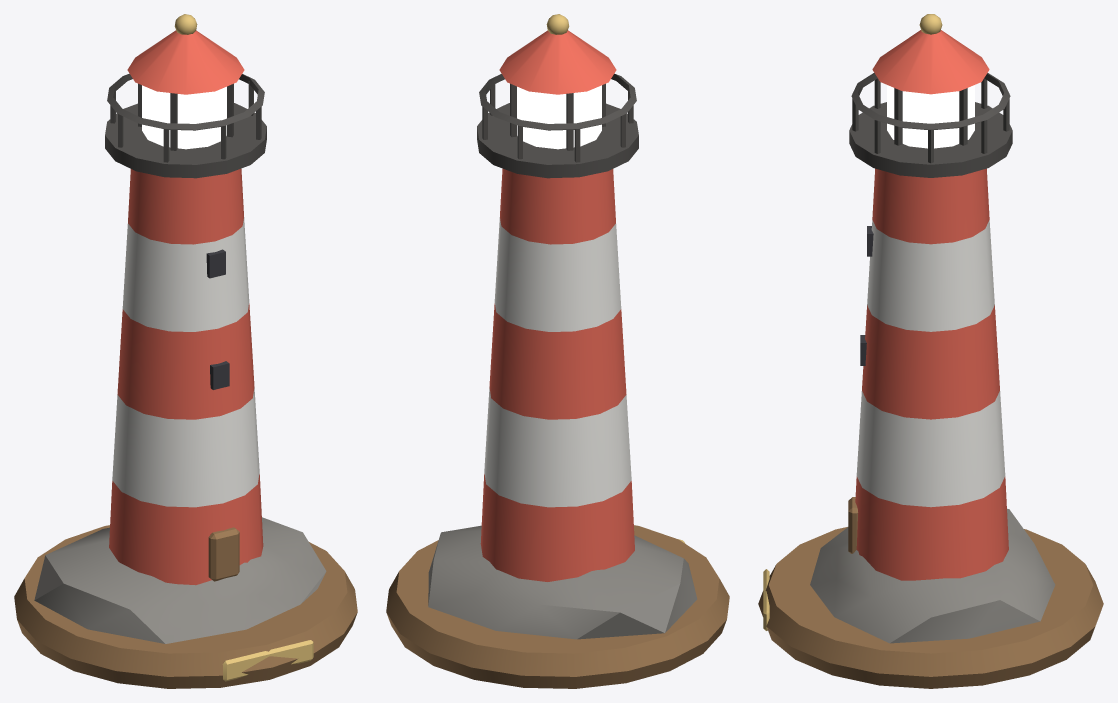
File: furn_lighthouse_model.glb
3 views of the same model, side by side, from view 1: azimuth 30°, elevation 25°; view 2: azimuth 150°, elevation 25°; view 3: azimuth 270°, elevation 25° (orthographic).
Visible parts, largest first — view 1: furn_lighthouse_model_body; view 2: furn_lighthouse_model_body; view 3: furn_lighthouse_model_body.
Boxes of the visible parts, <box> form: furn_lighthouse_model_body: <box>14,14,357,688</box>; furn_lighthouse_model_body: <box>386,14,729,688</box>; furn_lighthouse_model_body: <box>758,14,1103,688</box>.
Bounding box in the file's own units: 0.33 × 0.636 × 0.33.
